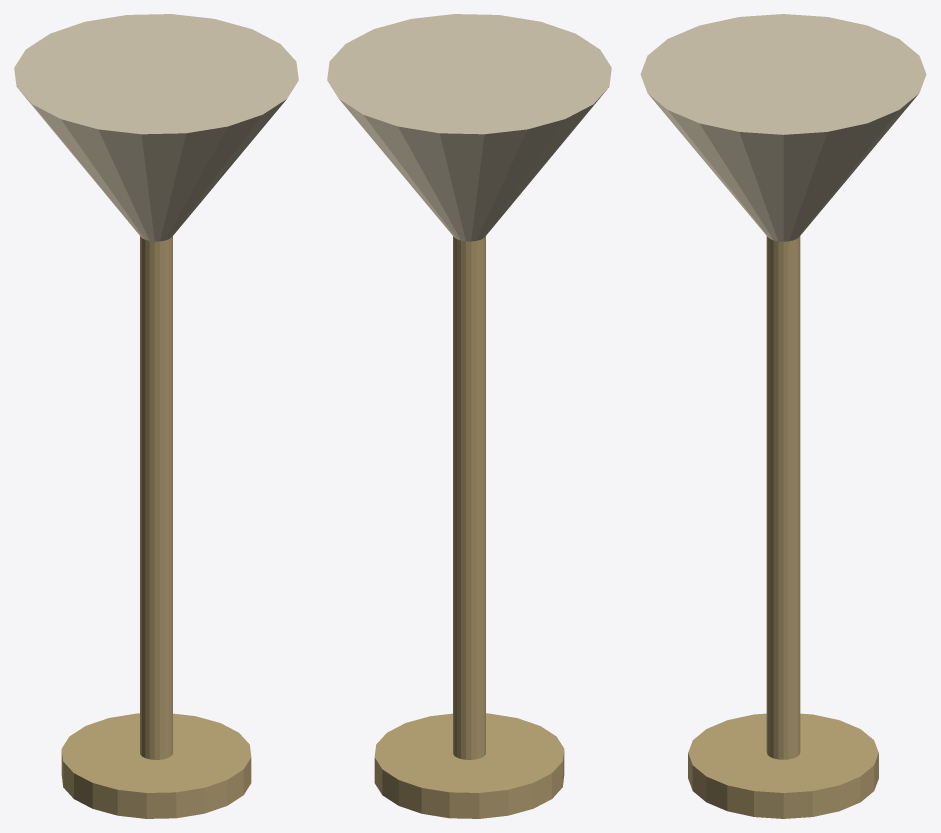
File: floor_lamp.glb
3 renders of one model, left to right at view 1: azimuth 30°, elevation 25°; view 2: azimuth 150°, elevation 25°; view 3: azimuth 270°, elevation 25°, orthographic.
Visible parts, largest first — view 1: Shade, Stem, Base; view 2: Shade, Stem, Base; view 3: Shade, Stem, Base.
Boxes of the visible parts, x1=… form: Shade: x1=14, y1=14, x2=298, y2=241; Stem: x1=140, y1=236, x2=172, y2=759; Base: x1=61, y1=713, x2=251, y2=818; Shade: x1=327, y1=14, x2=611, y2=241; Stem: x1=453, y1=236, x2=485, y2=759; Base: x1=374, y1=713, x2=564, y2=818; Shade: x1=640, y1=14, x2=926, y2=241; Stem: x1=766, y1=236, x2=800, y2=759; Base: x1=688, y1=713, x2=878, y2=818.
Size of the model in its own units: 0.6 by 1.63 by 0.6.
